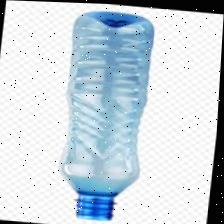plastic: (54, 3, 160, 223)
